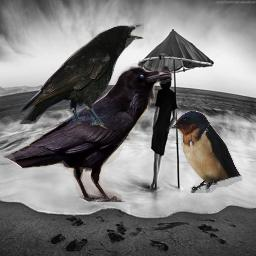Crow: (2, 62, 174, 202), (17, 22, 146, 133)
Swallow: (169, 110, 242, 193)
